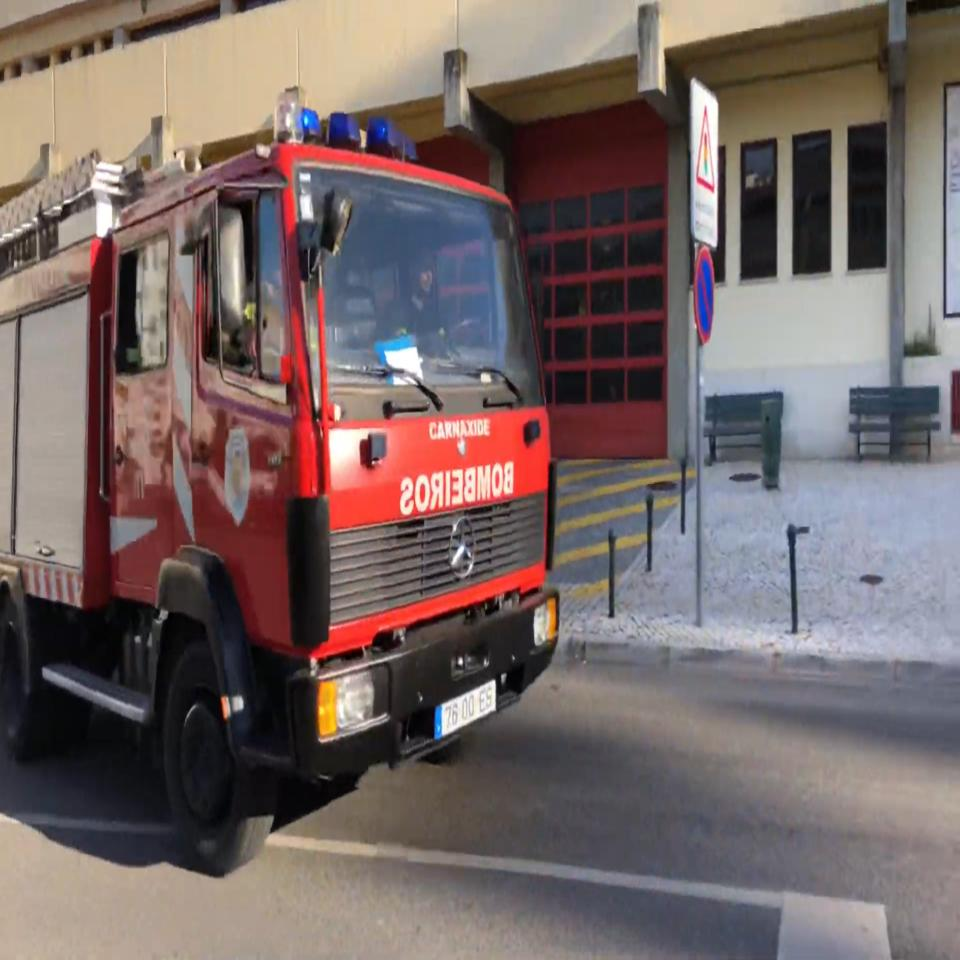viatura: (0, 83, 563, 877)
